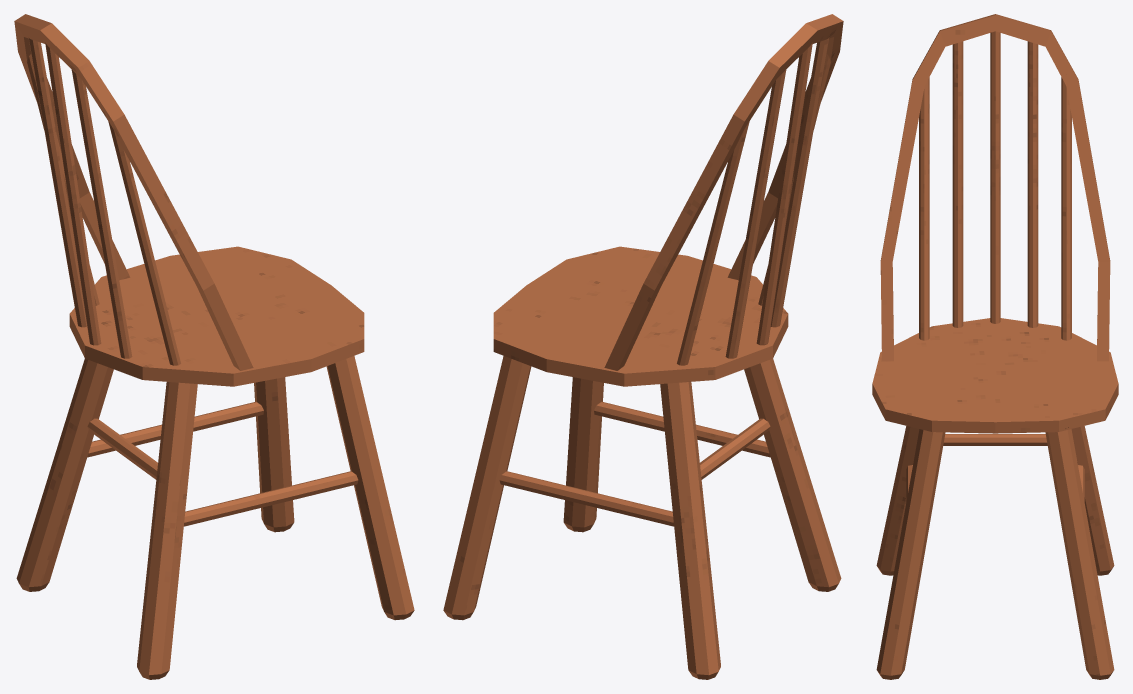
The model's file is Chair.fbx.
3 renders of one model, left to right at view 1: azimuth 30°, elevation 25°; view 2: azimuth 150°, elevation 25°; view 3: azimuth 270°, elevation 25°, orthographic. The views are drawn at different scales.
Parts seen in each view (by area): view 1: Chair_Dining_Legs, Chair_Dining, Chair_Dining_Back, Chair_Dining_Frame, Chair_Dining_Bars, Chair_Dining_Bar; view 2: Chair_Dining_Legs, Chair_Dining, Chair_Dining_Back, Chair_Dining_Frame, Chair_Dining_Bars, Chair_Dining_Bar; view 3: Chair_Dining, Chair_Dining_Legs, Chair_Dining_Back, Chair_Dining_Frame, Chair_Dining_Bar.
Boxes of the visible parts, x1,y1,x2,y2 form: Chair_Dining_Legs: (16, 356, 414, 679); Chair_Dining: (69, 246, 364, 386); Chair_Dining_Back: (27, 37, 180, 365); Chair_Dining_Frame: (14, 14, 253, 370); Chair_Dining_Bars: (87, 401, 358, 526); Chair_Dining_Bar: (87, 418, 157, 479); Chair_Dining_Legs: (443, 356, 841, 679); Chair_Dining: (493, 246, 788, 386); Chair_Dining_Back: (677, 37, 830, 365); Chair_Dining_Frame: (604, 14, 843, 370); Chair_Dining_Bars: (499, 401, 770, 526); Chair_Dining_Bar: (700, 418, 770, 479); Chair_Dining: (872, 318, 1118, 433); Chair_Dining_Legs: (876, 426, 1114, 679); Chair_Dining_Back: (919, 31, 1071, 340); Chair_Dining_Frame: (880, 14, 1110, 361); Chair_Dining_Bar: (943, 434, 1047, 445).
Size of the model in its own units: 115 by 217 by 90.07.
1 material, 1 textured.
